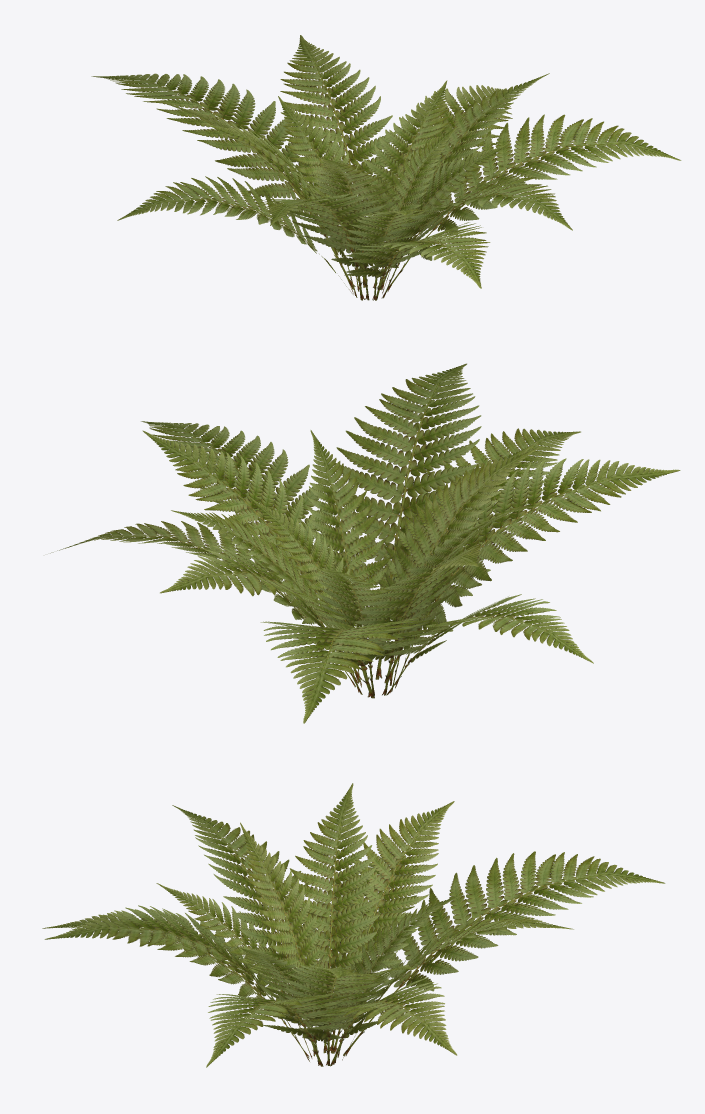
Rendered from fern_large_a_lod0.gltf.
3 views of the same model, one above another, from view 1: azimuth 30°, elevation 25°; view 2: azimuth 150°, elevation 25°; view 3: azimuth 270°, elevation 25° (orthographic). The views are drawn at different scales.
Parts seen in each view (by area): view 1: fern_large_a_LOD0; view 2: fern_large_a_LOD0; view 3: fern_large_a_LOD0.
Part boxes in pixels (x1,y1,x2,y2): fern_large_a_LOD0: (91,35,681,300); fern_large_a_LOD0: (50,363,680,723); fern_large_a_LOD0: (42,783,665,1067).
Size of the model in its own units: 2.01 by 0.7753 by 2.24.
1 material, 1 textured.
